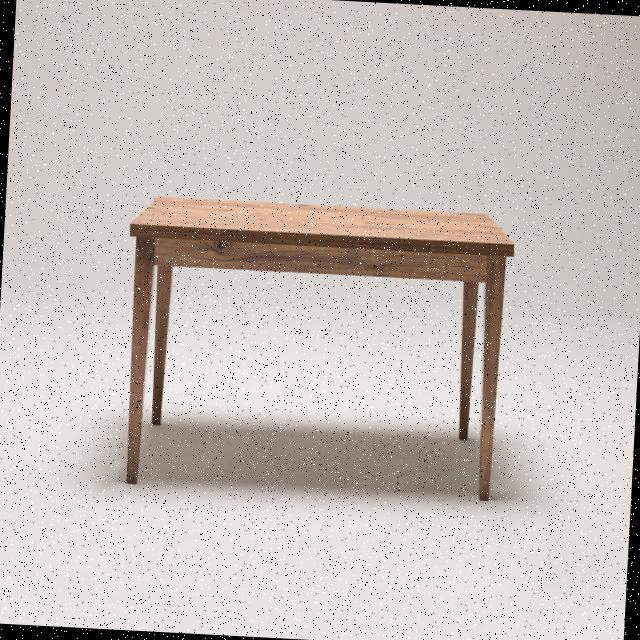Table: (76, 143, 585, 538)
